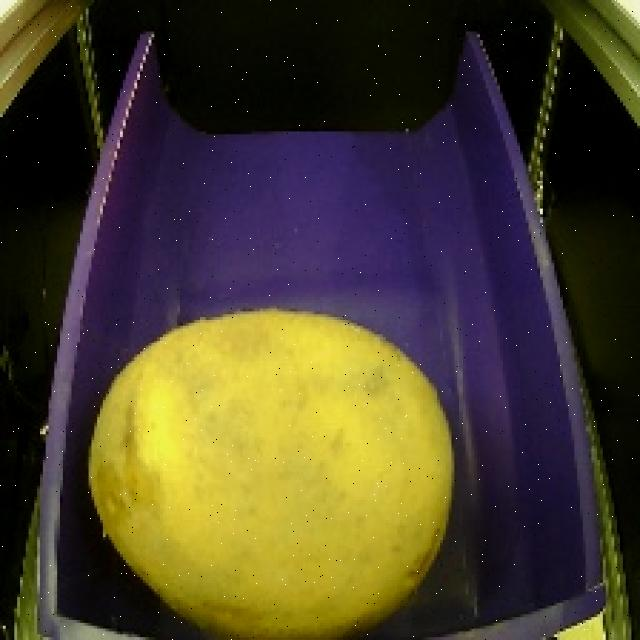full_potato: (77, 291, 472, 640)
